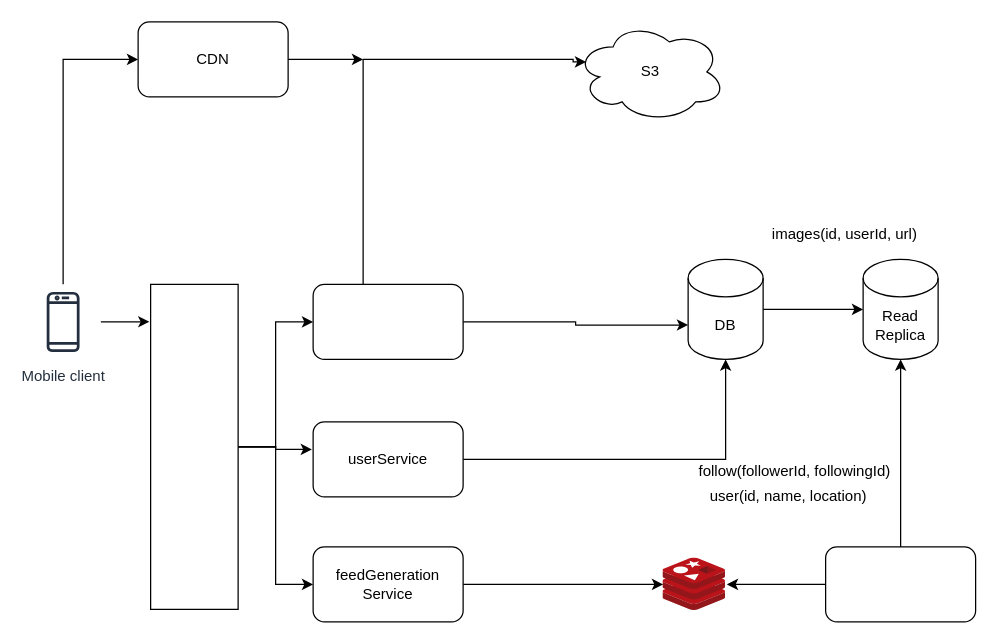
This 998x644 diagram has some shape labels left out. The shapes that lost their labels are listed below. From the top down, each one's centre as x and y in pixels, then its label:
At pixel 387 321: "uploadImageService".
At pixel 193 446: "Load Balancer".
At pixel 900 584: "preCache Service".
